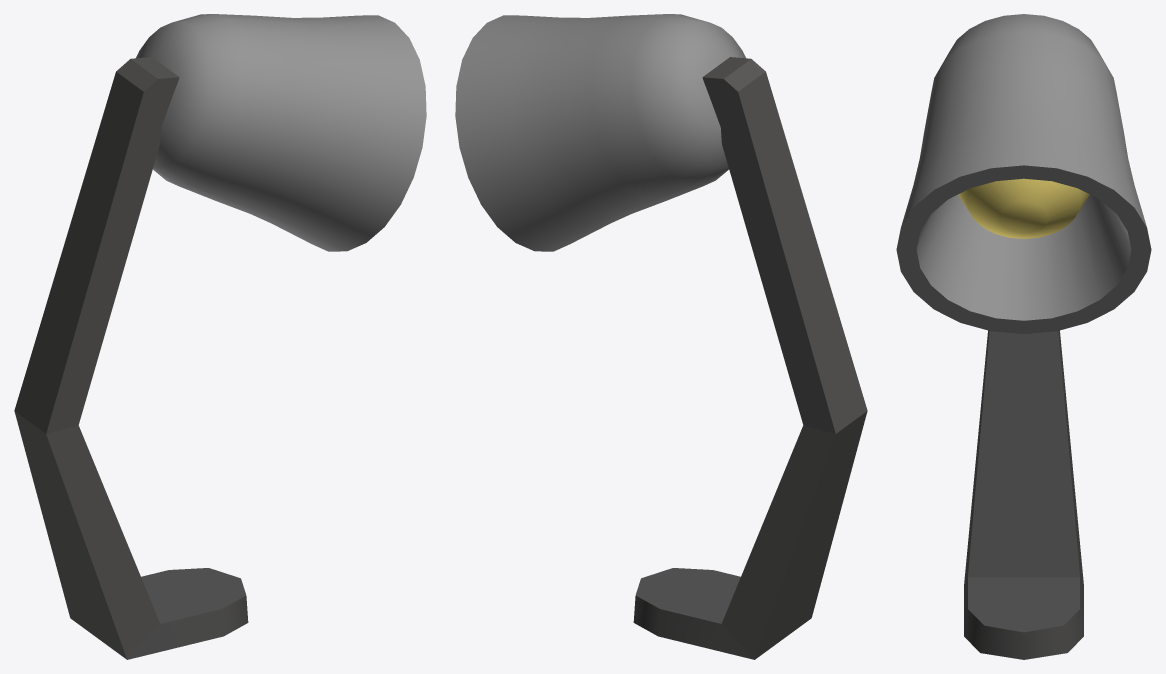
The model's file is lamp_table.fbx.
3 views of the same model, side by side, from view 1: azimuth 30°, elevation 25°; view 2: azimuth 150°, elevation 25°; view 3: azimuth 270°, elevation 25° (orthographic). The views are drawn at different scales.
Parts seen in each view (by area): view 1: lamp_table; view 2: lamp_table; view 3: lamp_table.
Part boxes in pixels (x1,y1,x2,y2): lamp_table: [14, 14, 426, 659]; lamp_table: [455, 14, 867, 659]; lamp_table: [896, 14, 1151, 659].
Size of the model in its own units: 27.37 by 42.21 by 15.7.
